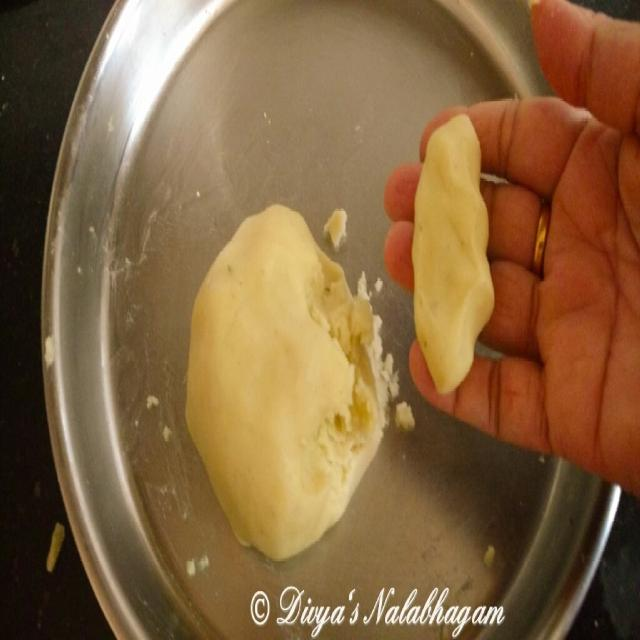pidi kolukattai: (395, 92, 503, 413)
